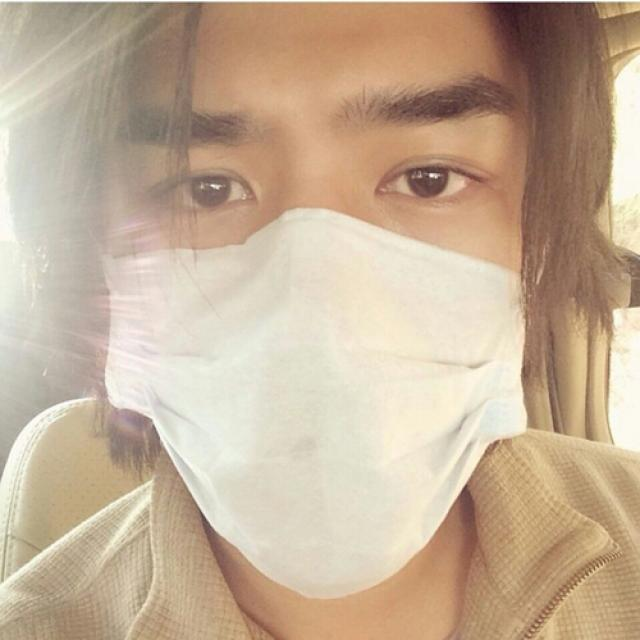mask: (109, 36, 523, 600)
